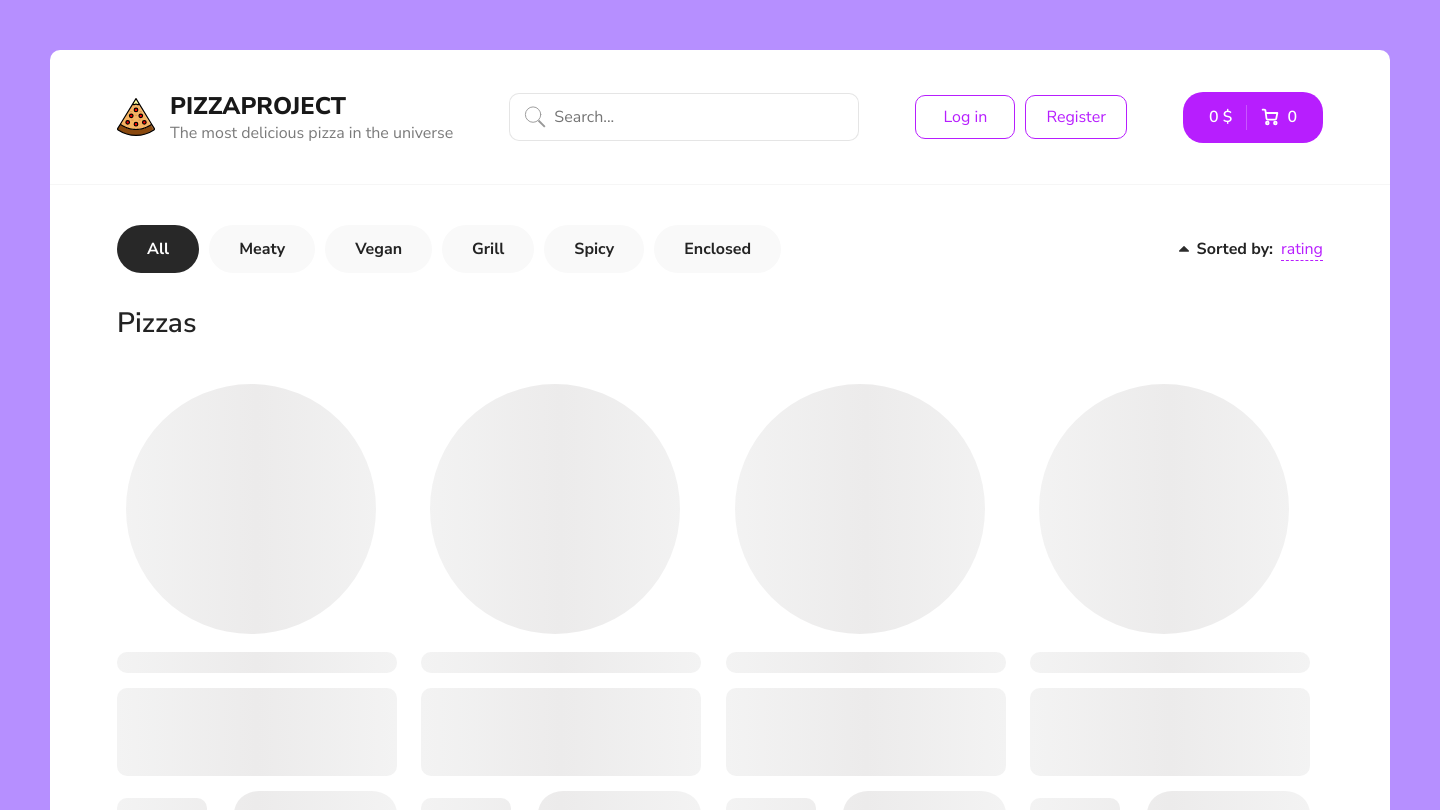
Test: register test › should redirect to register page
Click the link with test id "register" at (1076, 117), box [1025, 95, 1127, 139]
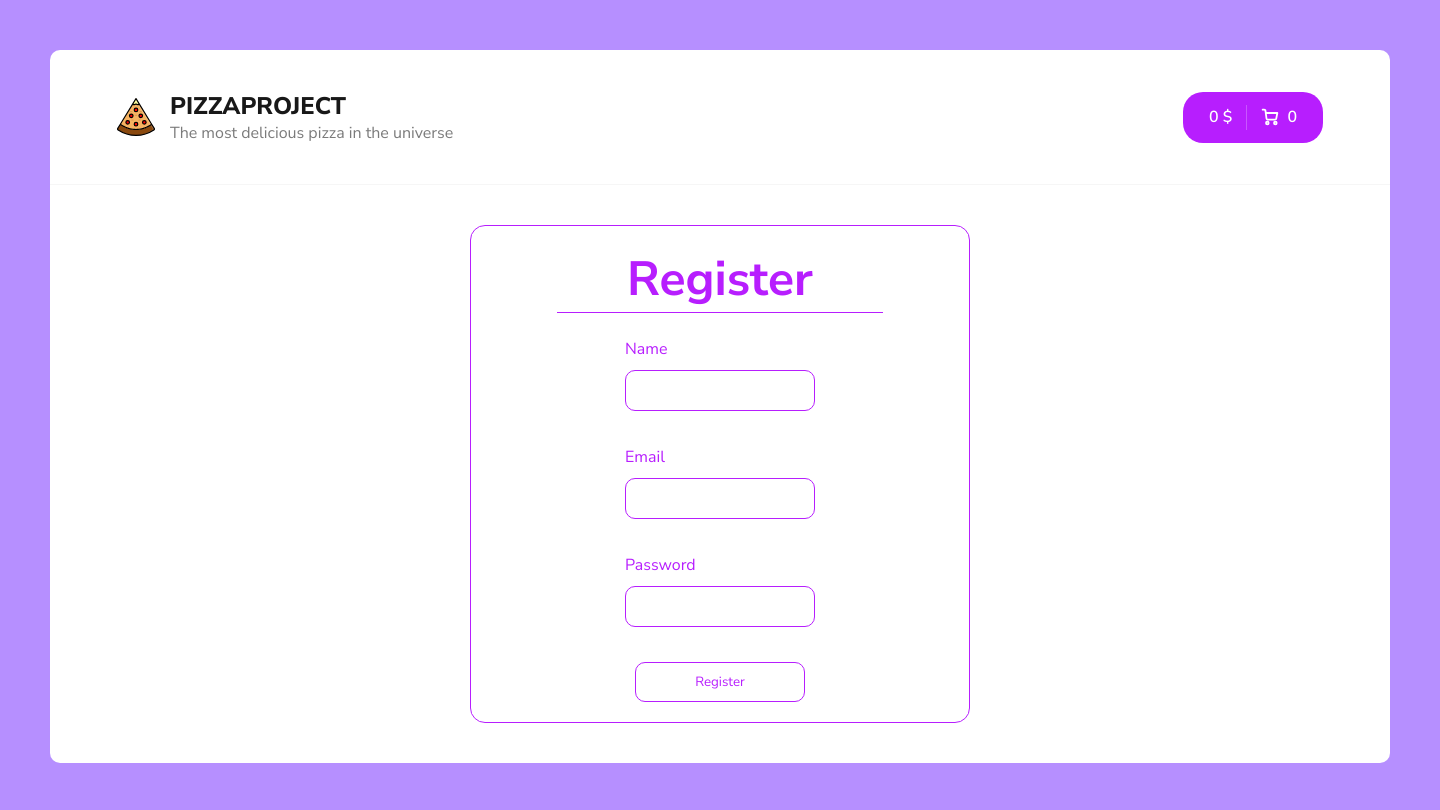
Expected: the heading "Register" is shown, [627, 246, 813, 313]
